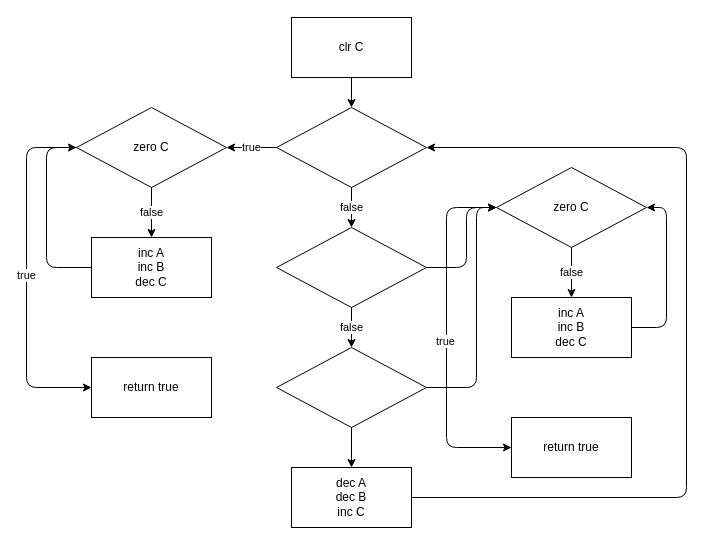
Some shapes in this 712 by 545 pixel diagram are drawn without their labels. The shapes that lost their labels are listed below. From the top down, each one's box as (x1, y1, x2, y2) in pixels, then its label:
(276, 106, 426, 188): both_zero
(276, 226, 426, 308): zero A
(276, 346, 426, 428): zero B
